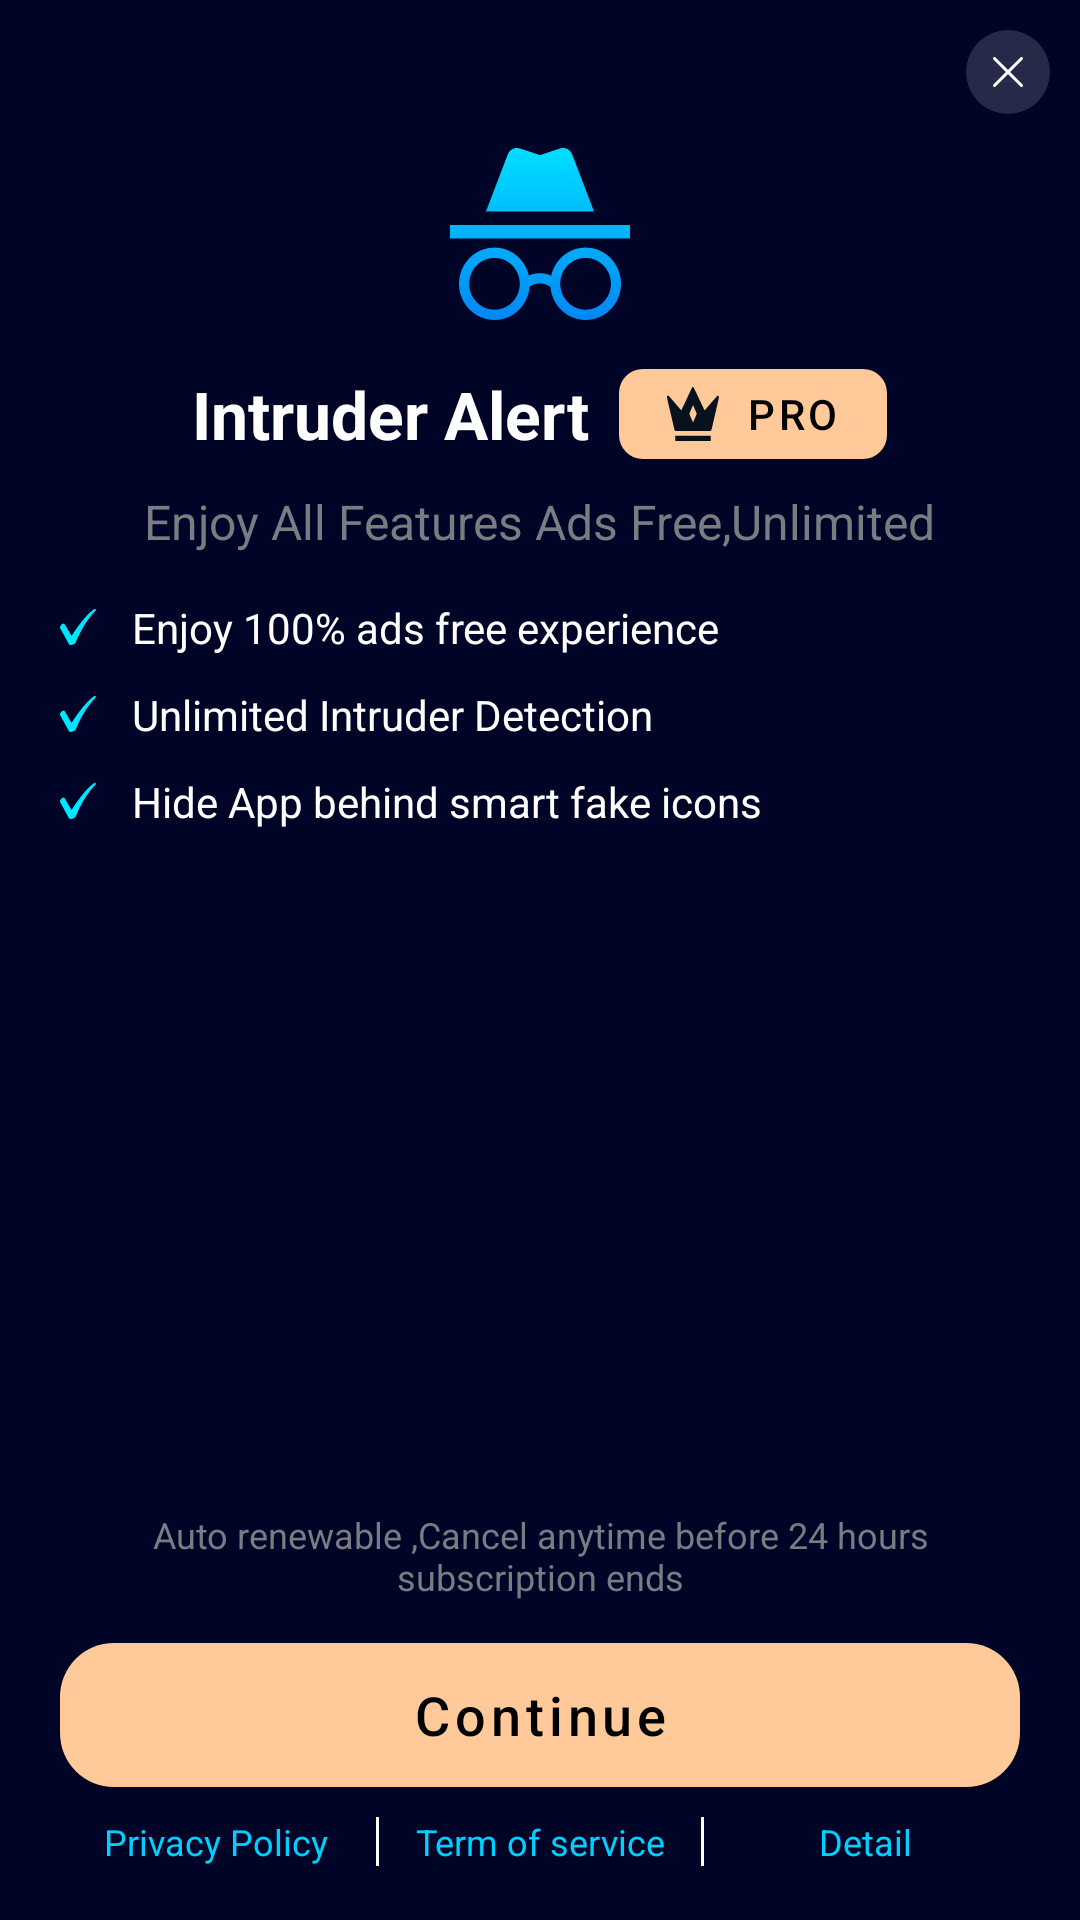

Point at icon controls on the screen. Image size 1080×1920, points as point (x, y).
close paywall: point (1008, 72)
paywallicon: point (540, 234)
